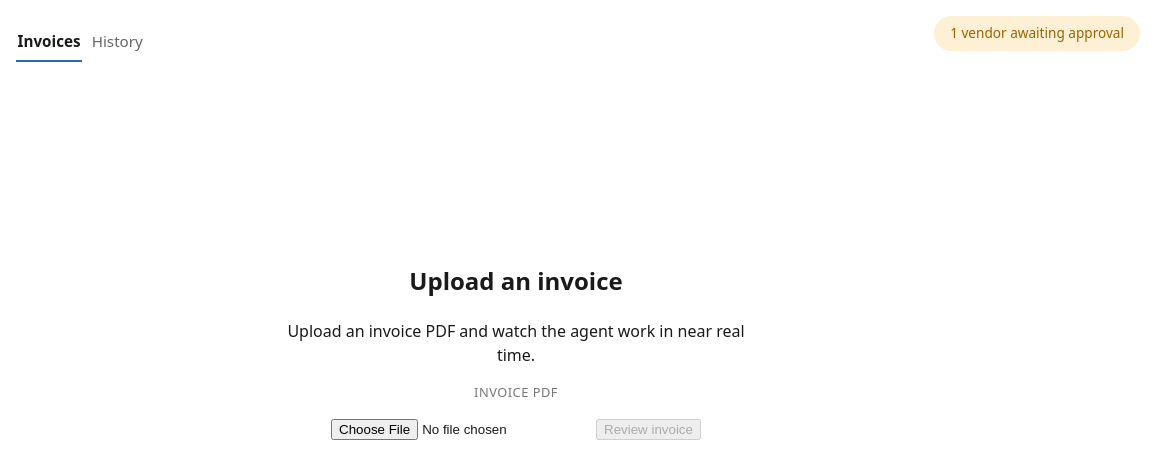
Test case: the pending-vendor badge › links to /vendors when vendors are waiting
The width and height of the screenshot is (1156, 457).
Click the link "1 vendor awaiting approval": (1037,33) [934,16,1140,51]
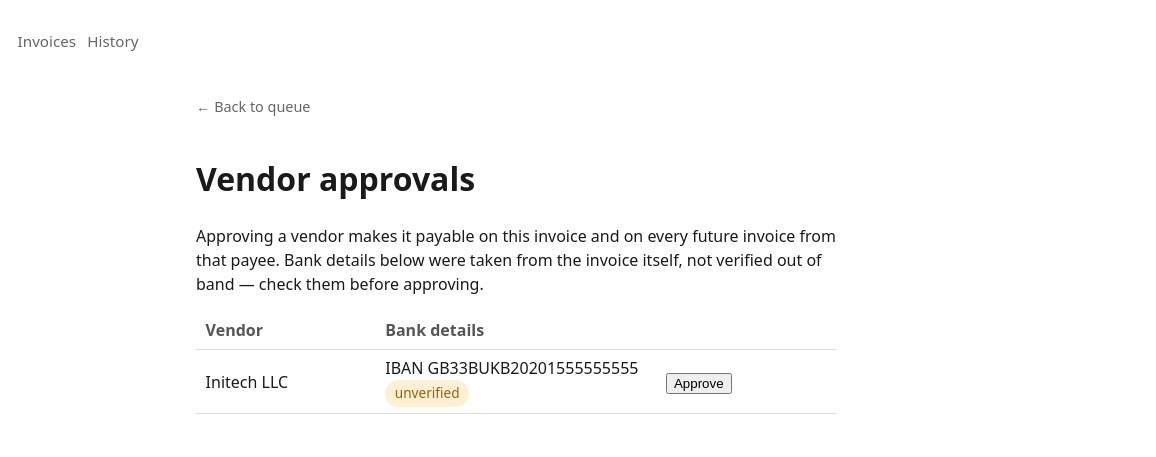
Expected: the heading "Vendor approvals" is shown, [196,157,475,200]
